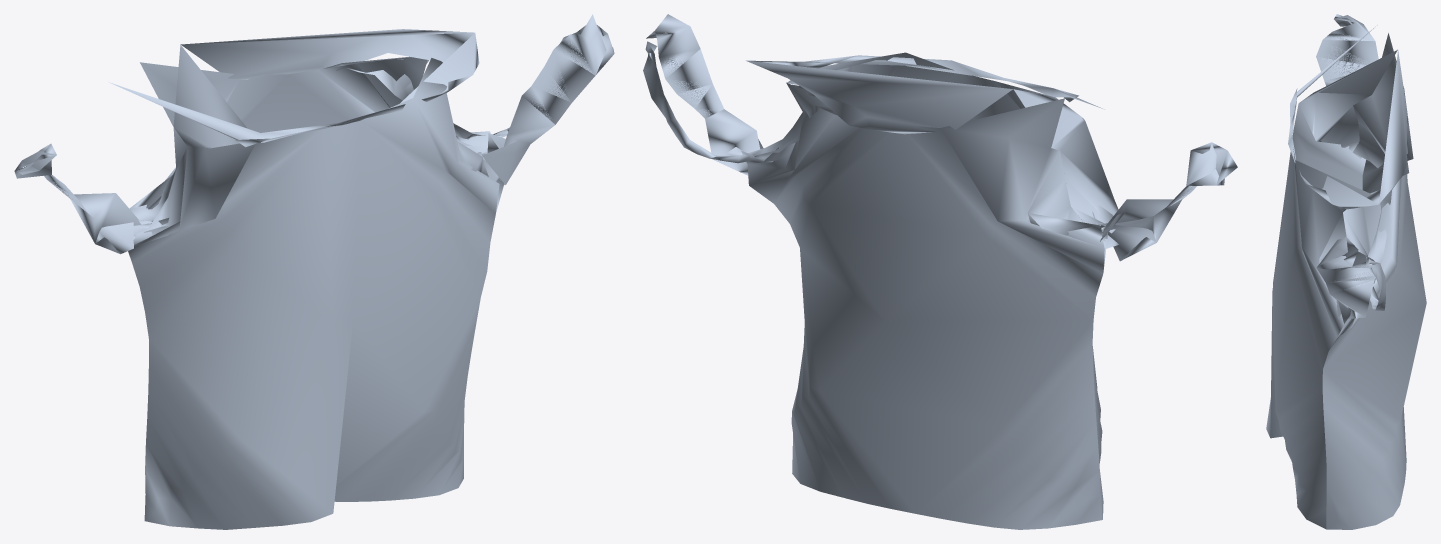
The model's file is frame_027.glb.
3 views of the same model, side by side, from view 1: azimuth 30°, elevation 25°; view 2: azimuth 150°, elevation 25°; view 3: azimuth 270°, elevation 25° (orthographic). The views are drawn at different scales.
Visible parts, largest first — view 1: panel.front, panel.neck_band, panel.back, panel.sleeve.right, panel.sleeve.left; view 2: panel.back, panel.neck_band, panel.front, panel.sleeve.right, panel.sleeve.left; view 3: panel.back, panel.front, panel.neck_band, panel.sleeve.right, panel.sleeve.left.
Boxes of the visible parts, left/top/right/bottom form: panel.front: left=128, top=45, right=499, bottom=529; panel.neck_band: left=109, top=25, right=585, bottom=147; panel.back: left=129, top=57, right=504, bottom=221; panel.sleeve.right: left=482, top=14, right=614, bottom=184; panel.sleeve.left: left=14, top=143, right=140, bottom=254; panel.back: left=741, top=84, right=1107, bottom=529; panel.neck_band: left=643, top=41, right=1104, bottom=163; panel.front: left=787, top=52, right=1118, bottom=518; panel.sleeve.right: left=646, top=14, right=766, bottom=175; panel.sleeve.left: left=1100, top=142, right=1237, bottom=261; panel.back: left=1322, top=33, right=1426, bottom=529; panel.front: left=1266, top=49, right=1397, bottom=528; panel.neck_band: left=1288, top=25, right=1409, bottom=310; panel.sleeve.right: left=1316, top=237, right=1375, bottom=323; panel.sleeve.left: left=1316, top=14, right=1378, bottom=85.
Bounding box in the file's own units: 1.06 × 0.7864 × 0.2991.
